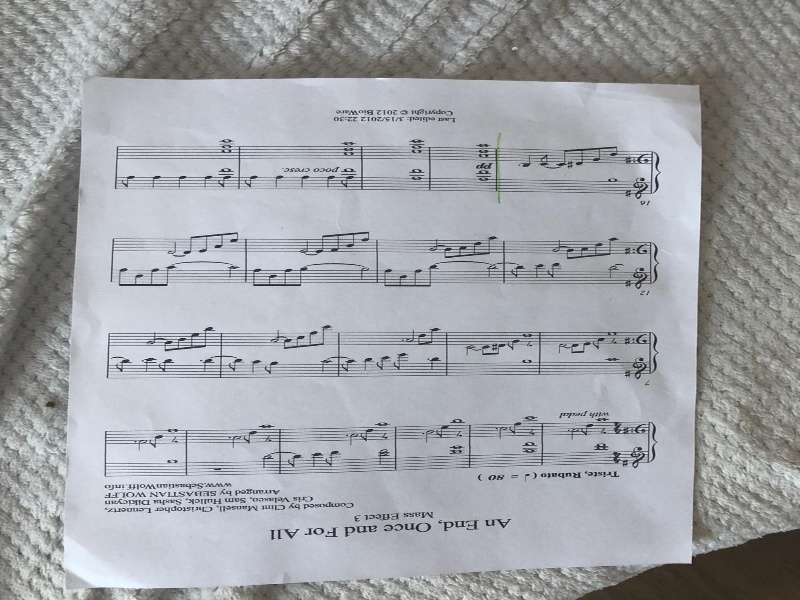document: (67, 78, 706, 591)
